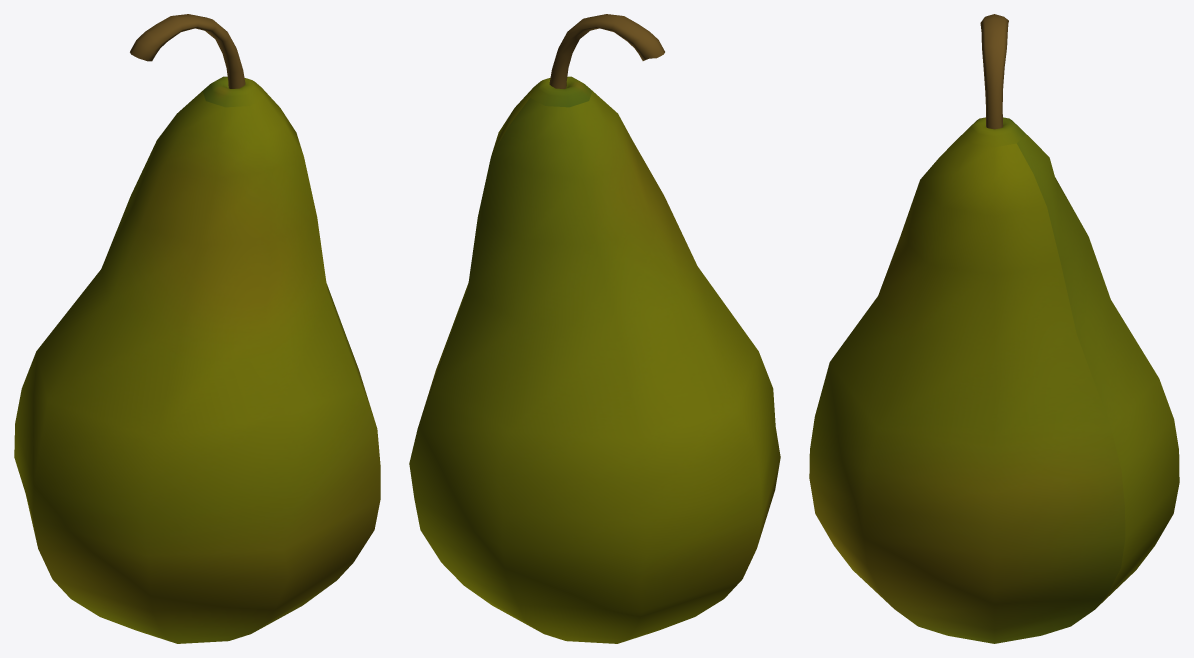
Rendered from pear.fbx.
3 renders of one model, left to right at view 1: azimuth 30°, elevation 25°; view 2: azimuth 150°, elevation 25°; view 3: azimuth 270°, elevation 25°, orthographic. The views are drawn at different scales.
Visible parts, largest first — view 1: pCylinder1, pCylinder2; view 2: pCylinder1, pCylinder2; view 3: pCylinder1, pCylinder2.
Part boxes in pixels (box(x1,y1,x2,y2)): pCylinder1: box(14, 76, 380, 643); pCylinder2: box(130, 14, 245, 88); pCylinder1: box(409, 76, 780, 643); pCylinder2: box(549, 14, 664, 88); pCylinder1: box(809, 117, 1179, 643); pCylinder2: box(980, 14, 1008, 129).
Size of the model in its own units: 6.46 by 11.47 by 6.46.
Materials: 2 (1 with a texture image).
